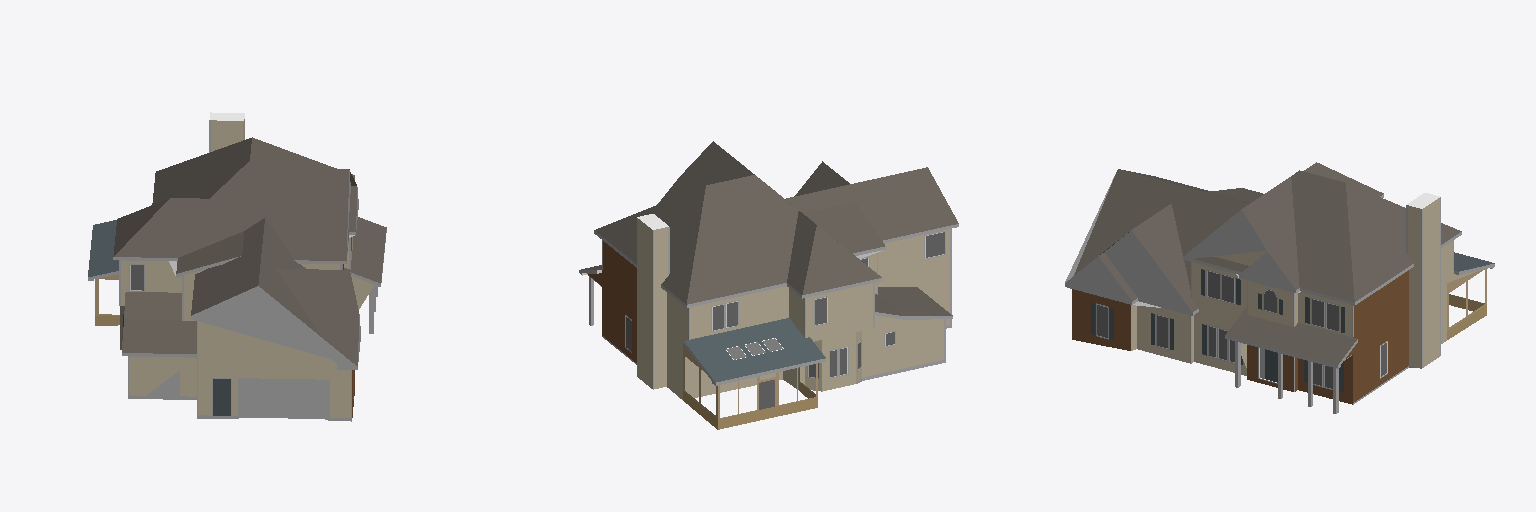
The model's file is RobinsonHouse.obj.
3 views of the same model, side by side, from view 1: azimuth 30°, elevation 25°; view 2: azimuth 150°, elevation 25°; view 3: azimuth 270°, elevation 25° (orthographic).
Parts seen in each view (by area): view 1: Mesh51 Model, Mesh15 Group82_1_1 Model, Mesh19 Group109_1_1 Model; view 2: Mesh51 Model; view 3: Mesh51 Model.
Part boxes in pixels (left/top/right/bottom): Mesh51 Model: left=88, top=112, right=386, bottom=421; Mesh15 Group82_1_1 Model: left=239, top=379, right=322, bottom=418; Mesh19 Group109_1_1 Model: left=213, top=379, right=230, bottom=415; Mesh51 Model: left=579, top=141, right=958, bottom=429; Mesh51 Model: left=1065, top=162, right=1494, bottom=413.
Bounding box in the file's own units: 751 × 393 × 878.